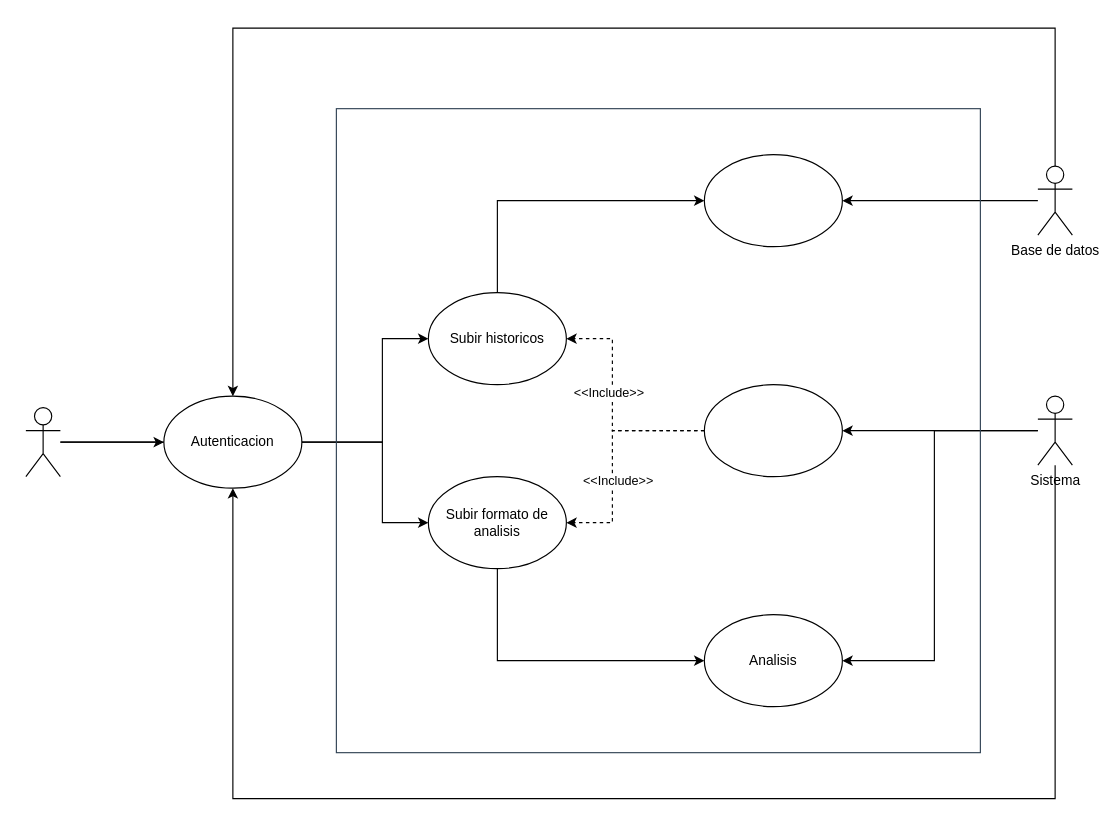
The diagram is 1119 pixels wide and 828 high, and some of its shapes have lost their labels. Here are the shapes that lost their labels. From the top down, the centre of each, then its label:
point 772,200: Guardar en BD
point 42,442: Usuario
point 772,430: Validación de formato
